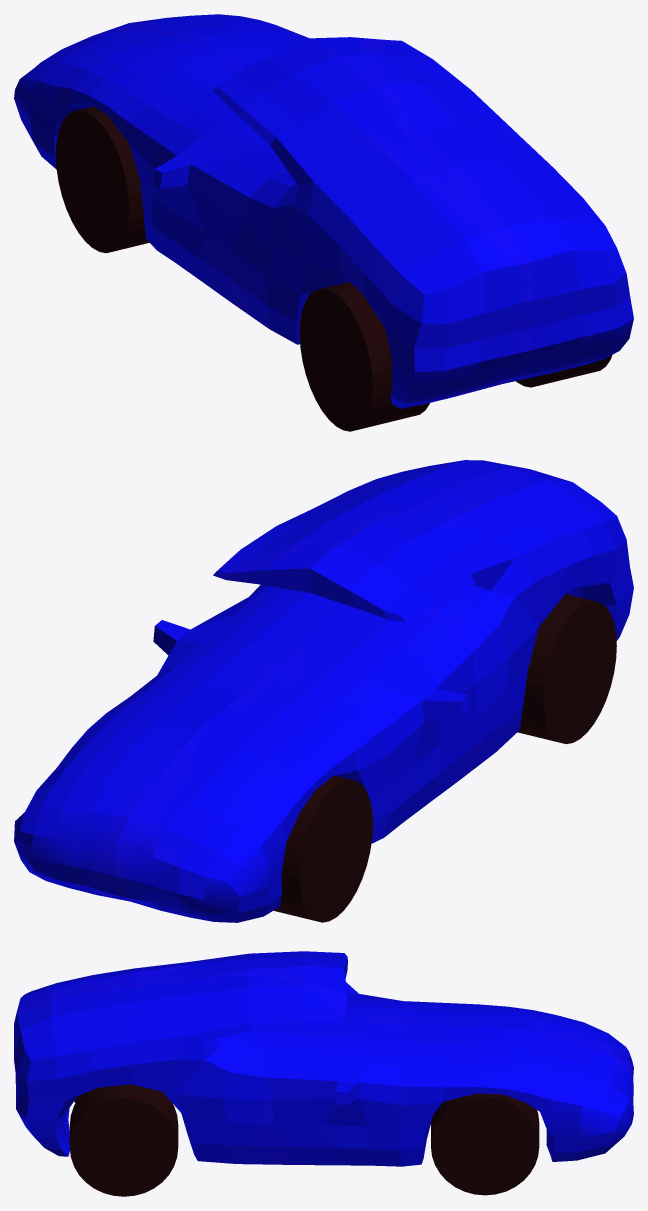
File: car_blue.fbx
3 renders of one model, top to bottom at view 1: azimuth 30°, elevation 25°; view 2: azimuth 150°, elevation 25°; view 3: azimuth 270°, elevation 25°, orthographic. The views are drawn at different scales.
Visible parts, largest first — view 1: Car (Blue), Wheels (Blue); view 2: Car (Blue), Wheels (Blue); view 3: Car (Blue), Wheels (Blue).
Part boxes in pixels (box(x1,y1,x2,y2)): Car (Blue): box(14, 14, 633, 408); Wheels (Blue): box(56, 106, 612, 431); Car (Blue): box(14, 460, 633, 922); Wheels (Blue): box(273, 594, 616, 922); Car (Blue): box(14, 951, 633, 1166); Wheels (Blue): box(69, 1084, 539, 1196).
Bounding box in the file's own units: 488 × 379 × 1143.
1 material, 1 textured.
